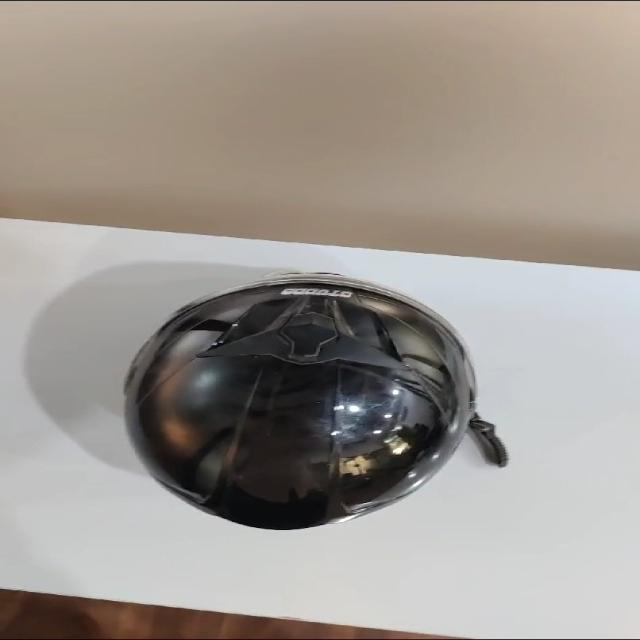helmet: (133, 273, 495, 544)
